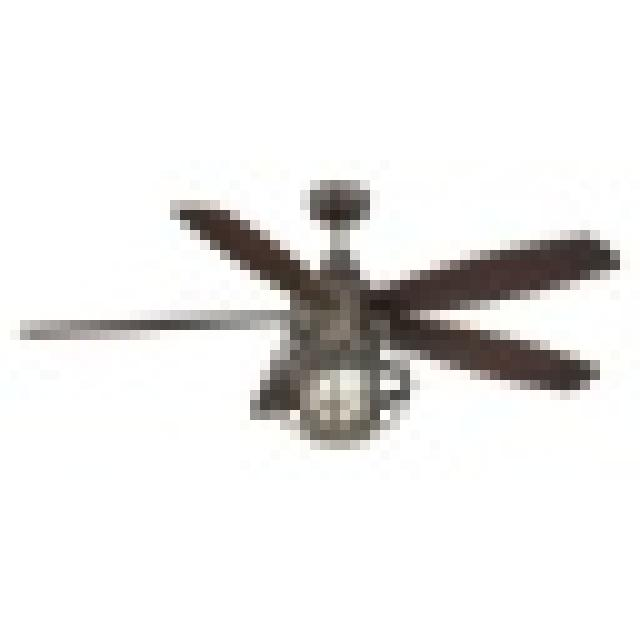Bulb: (10, 175, 636, 456)
